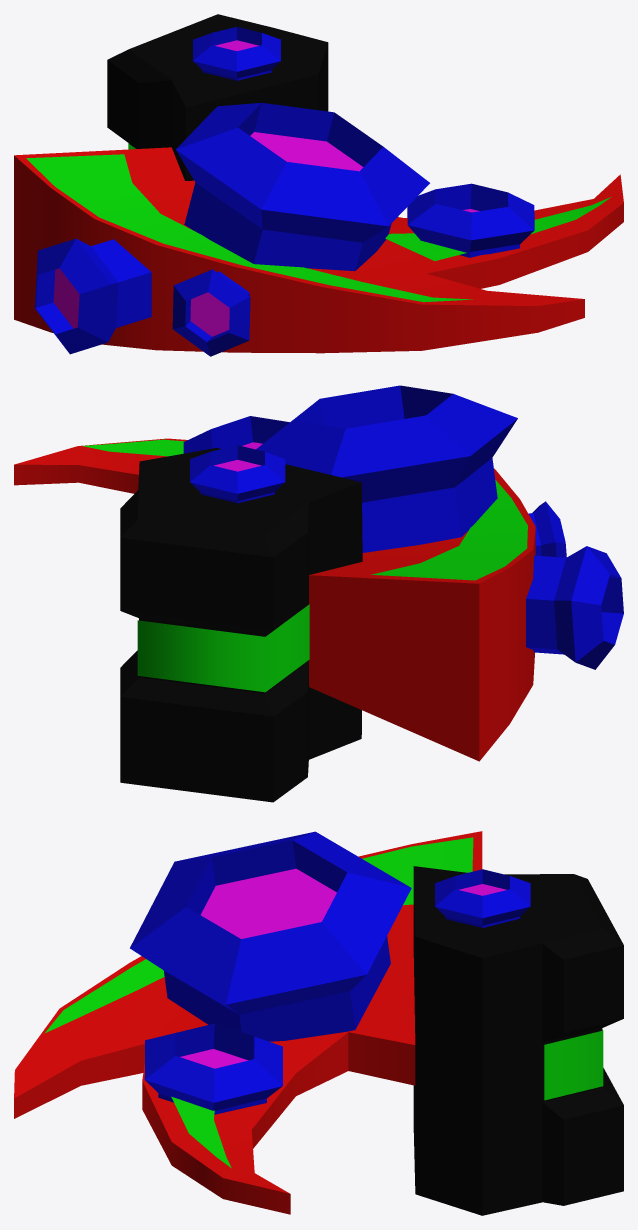
File: Explosive Spinner Blade Spore.fbx
The picture shows the model from 3 angles, top to bottom: view 1: azimuth 30°, elevation 25°; view 2: azimuth 150°, elevation 25°; view 3: azimuth 270°, elevation 25°; orthographic projection. The views are drawn at different scales.
Visible parts, largest first — view 1: Explosive Spinner Blade T4; view 2: Explosive Spinner Blade T4; view 3: Explosive Spinner Blade T4.
Part boxes in pixels (box(x1,y1,x2,y2)): Explosive Spinner Blade T4: box(14, 14, 623, 356); Explosive Spinner Blade T4: box(14, 385, 623, 802); Explosive Spinner Blade T4: box(14, 831, 623, 1215).
Bounding box in the file's own units: 180 × 79.95 × 155.
